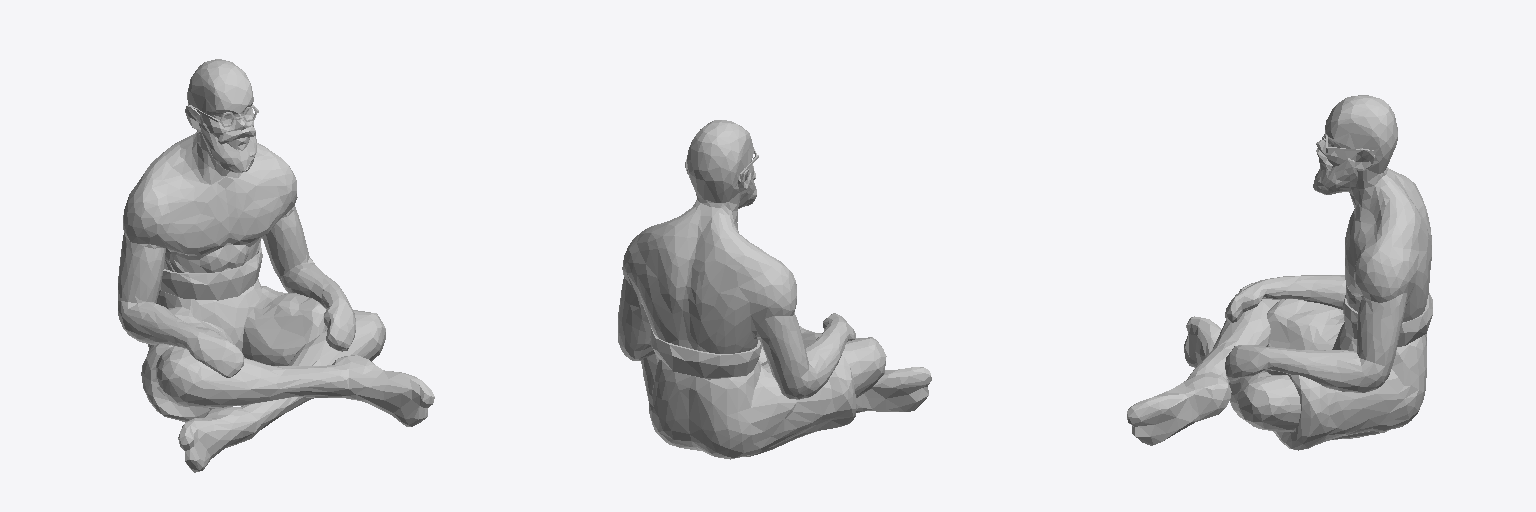
The model's file is meditatingGuy.obj.
3 renders of one model, left to right at view 1: azimuth 30°, elevation 25°; view 2: azimuth 150°, elevation 25°; view 3: azimuth 270°, elevation 25°, orthographic.
Visible parts, largest first — view 1: MeditatingGuy_Cube.002; view 2: MeditatingGuy_Cube.002; view 3: MeditatingGuy_Cube.002.
Part boxes in pixels (bbox=[...]): MeditatingGuy_Cube.002: bbox=[118, 59, 434, 472]; MeditatingGuy_Cube.002: bbox=[618, 120, 931, 459]; MeditatingGuy_Cube.002: bbox=[1127, 95, 1432, 450].
Size of the model in its own units: 0.8081 by 1.04 by 0.8947.